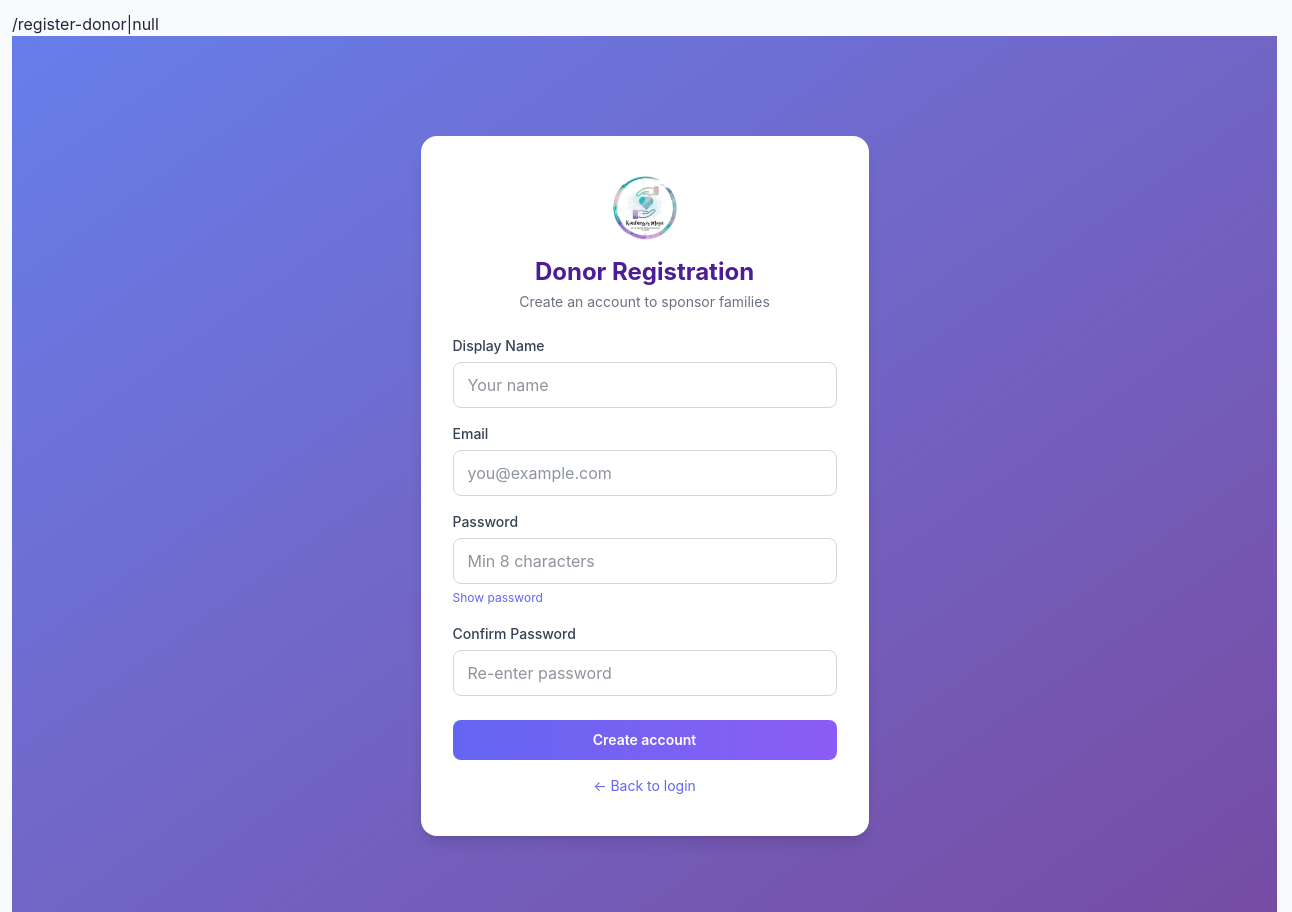
Scenario: DonorSelfRegister › shows error when passwords do not match
Type "Test Donor" into the field labelled "Display Name" at (644, 385), box [452, 362, 836, 408]
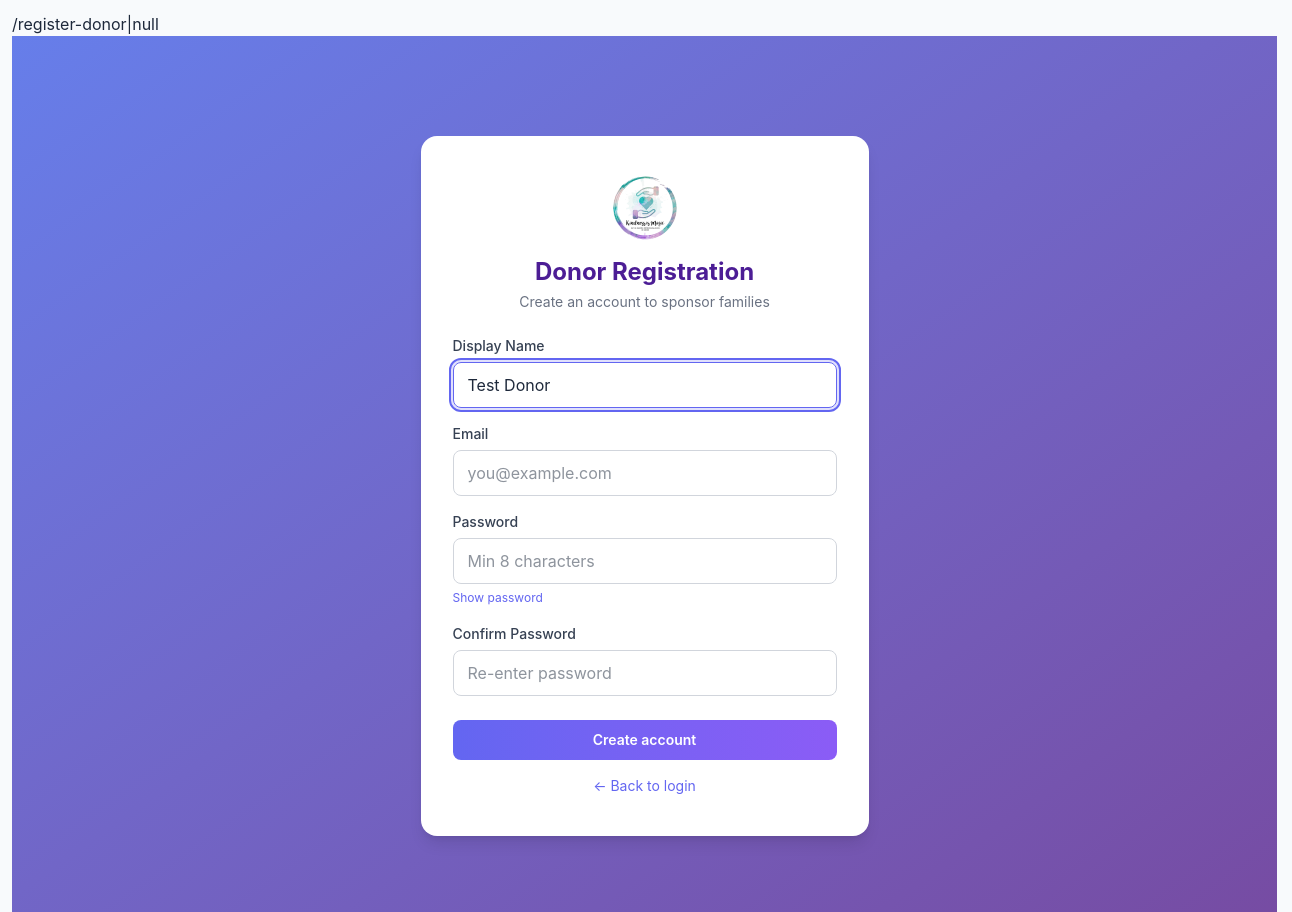
Type "donor@example.com" into the field labelled "Email" at (644, 473), box [452, 450, 836, 496]
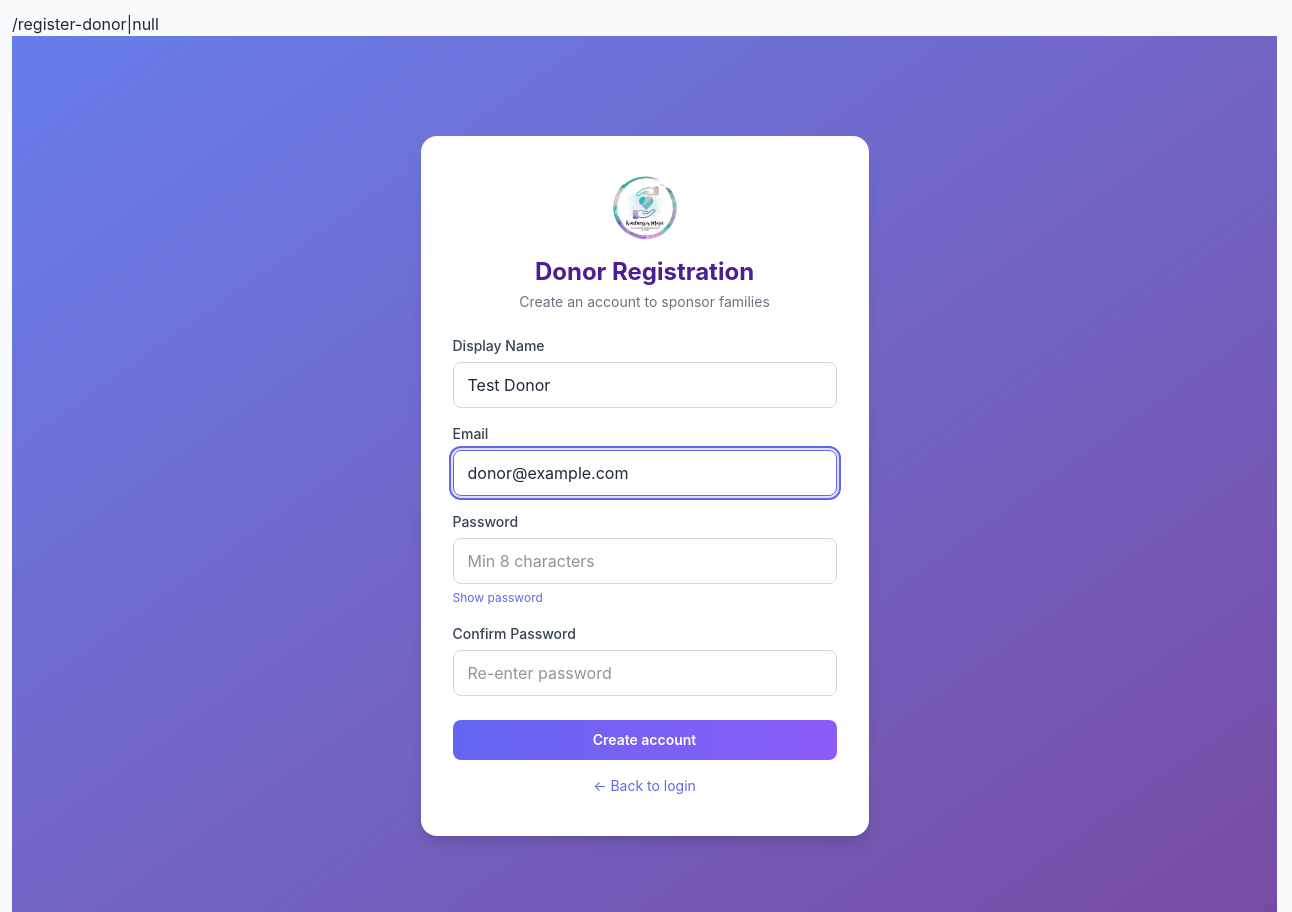
Type "password123" into the password field labelled "Password" at (644, 561), box [452, 538, 836, 584]
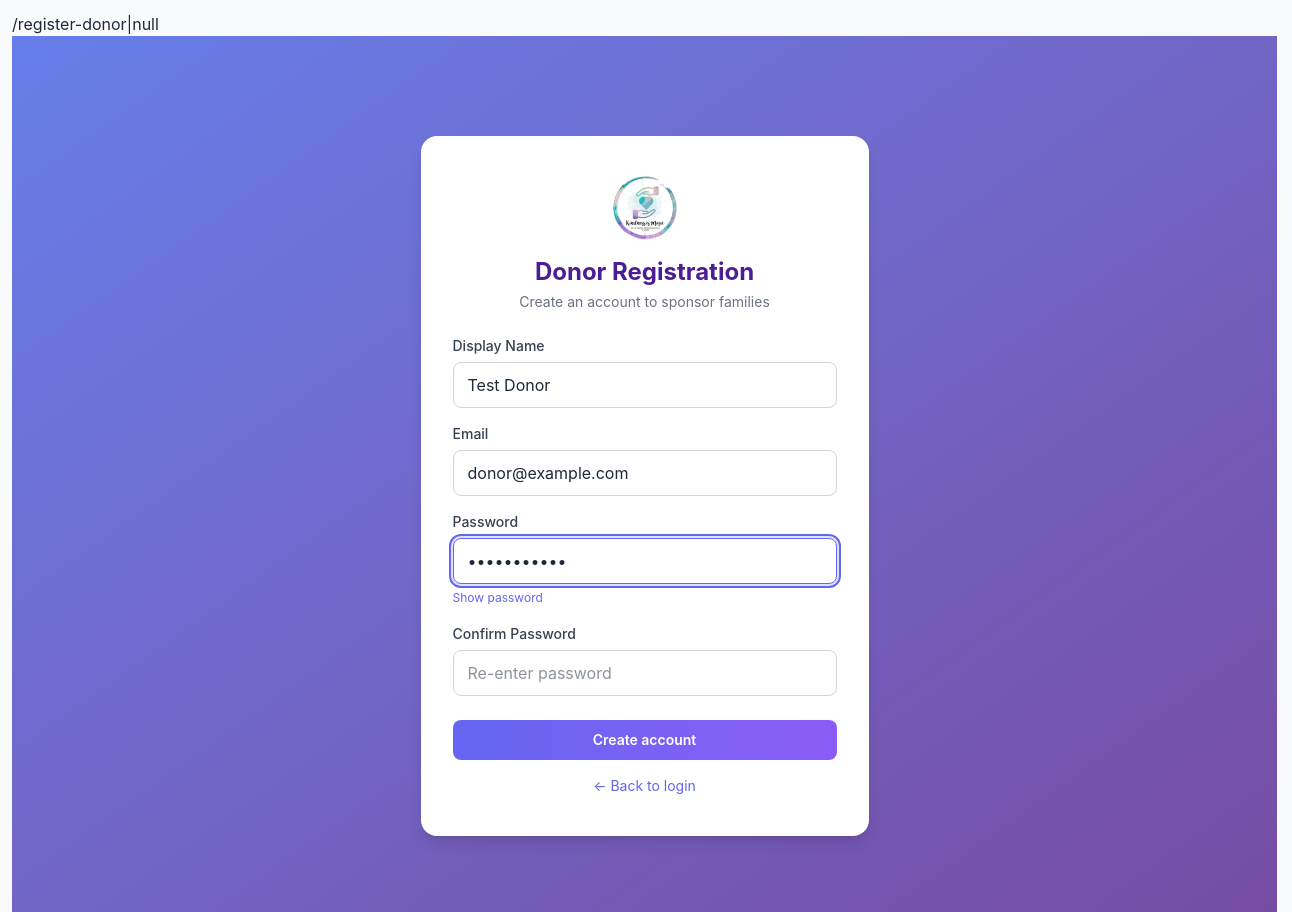
Type "password123" into the password field labelled "Confirm Password" at (644, 673), box [452, 650, 836, 696]
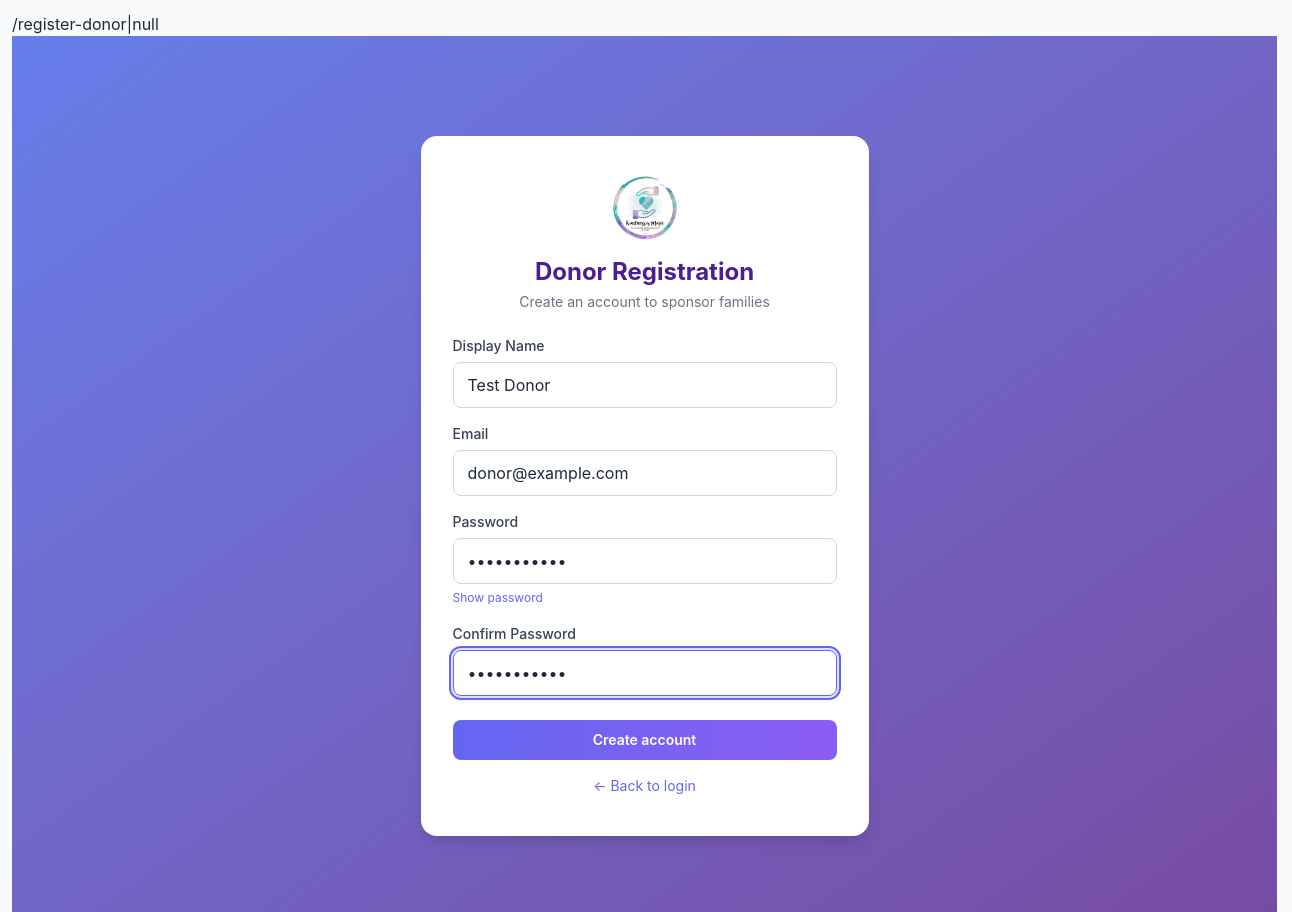
Type "different1" into the password field labelled "Confirm Password" at (644, 673), box [452, 650, 836, 696]
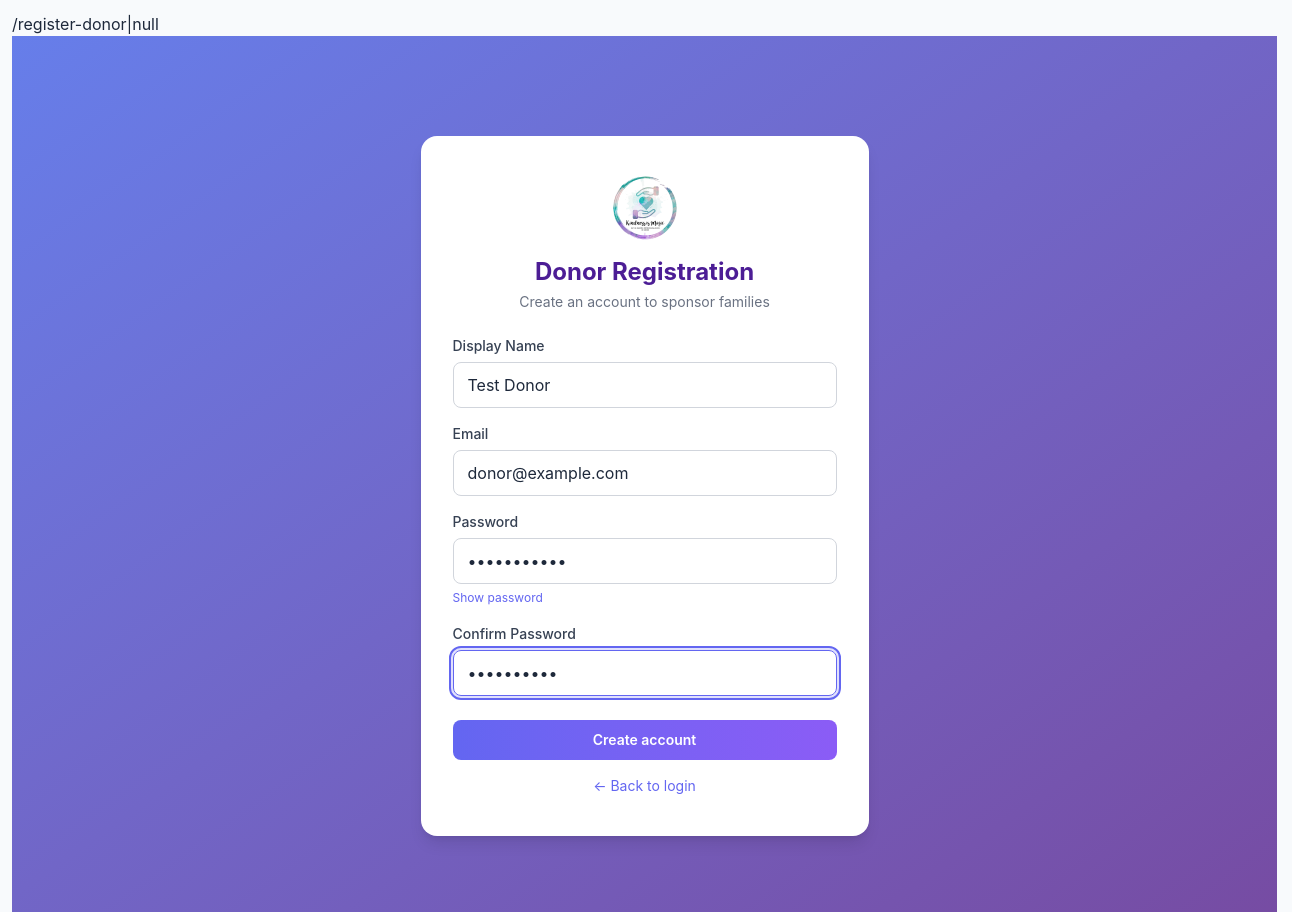
Click the button "Create account" at (644, 740), box [452, 720, 836, 760]
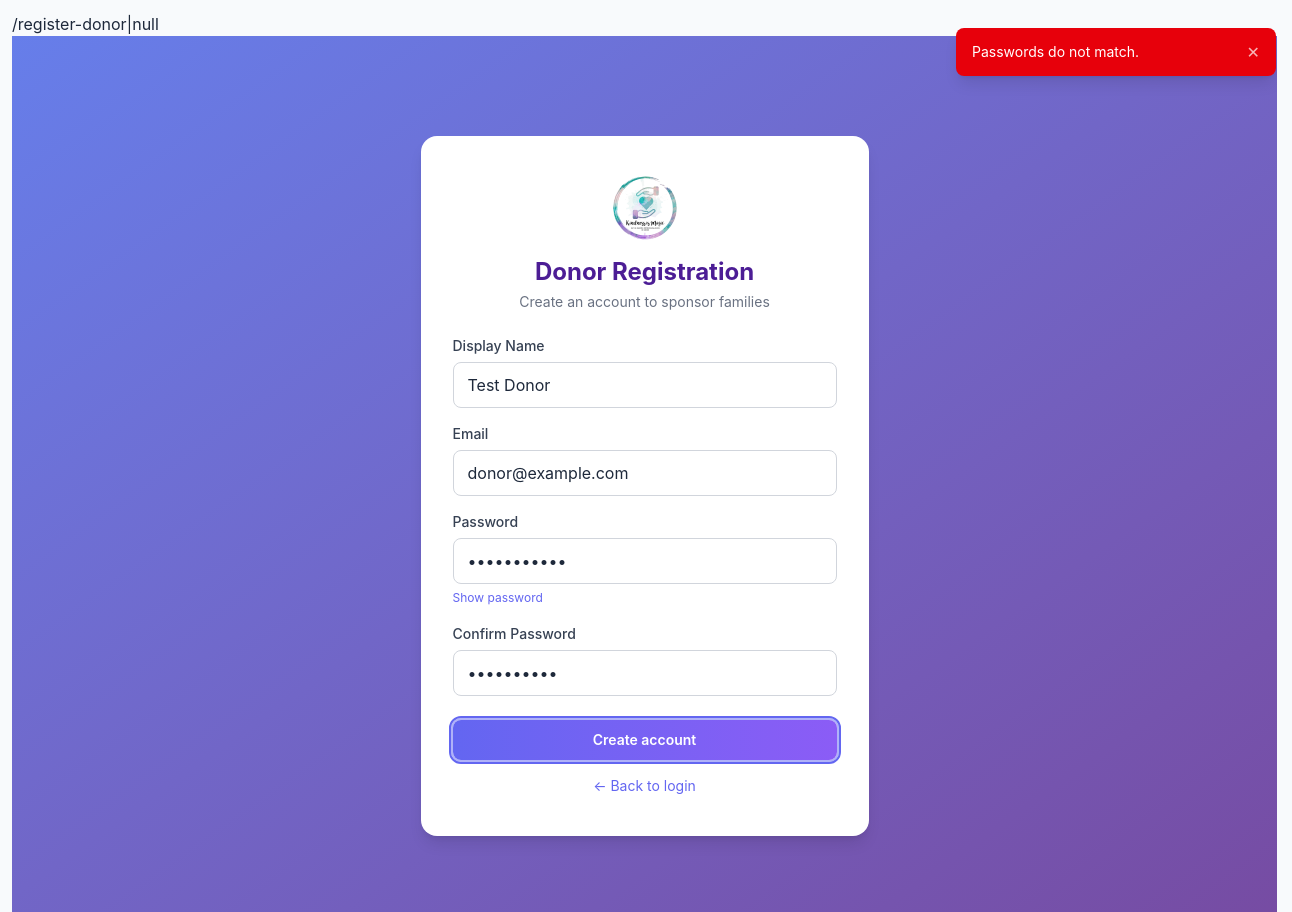
Check: the text "Passwords do not match." is shown, box [972, 43, 1139, 60]
